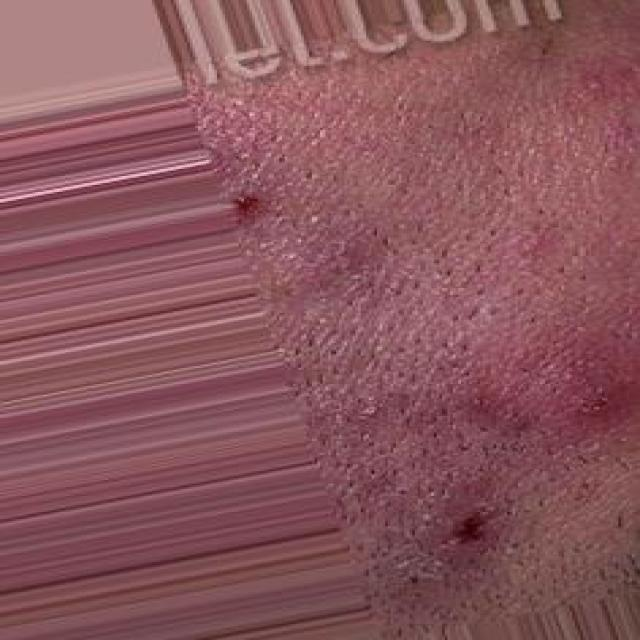Rosacea: (225, 68, 640, 554)
